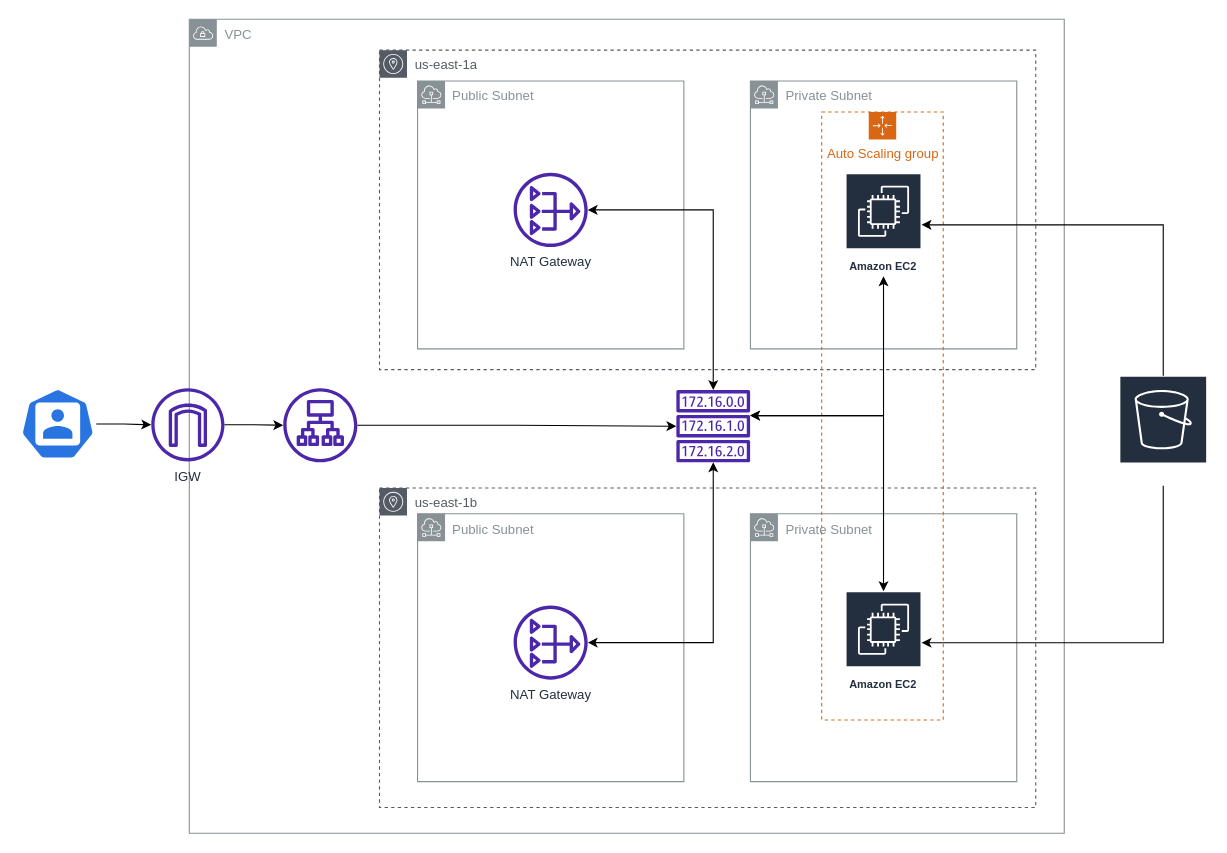
Some shapes in this 1227 by 853 pixel diagram are drawn without their labels. Here are the shapes that lost their labels. From the top down, the centre of each, then its label:
At point (320, 425): "ELB".
At point (1162, 430): "Amazon S3".
